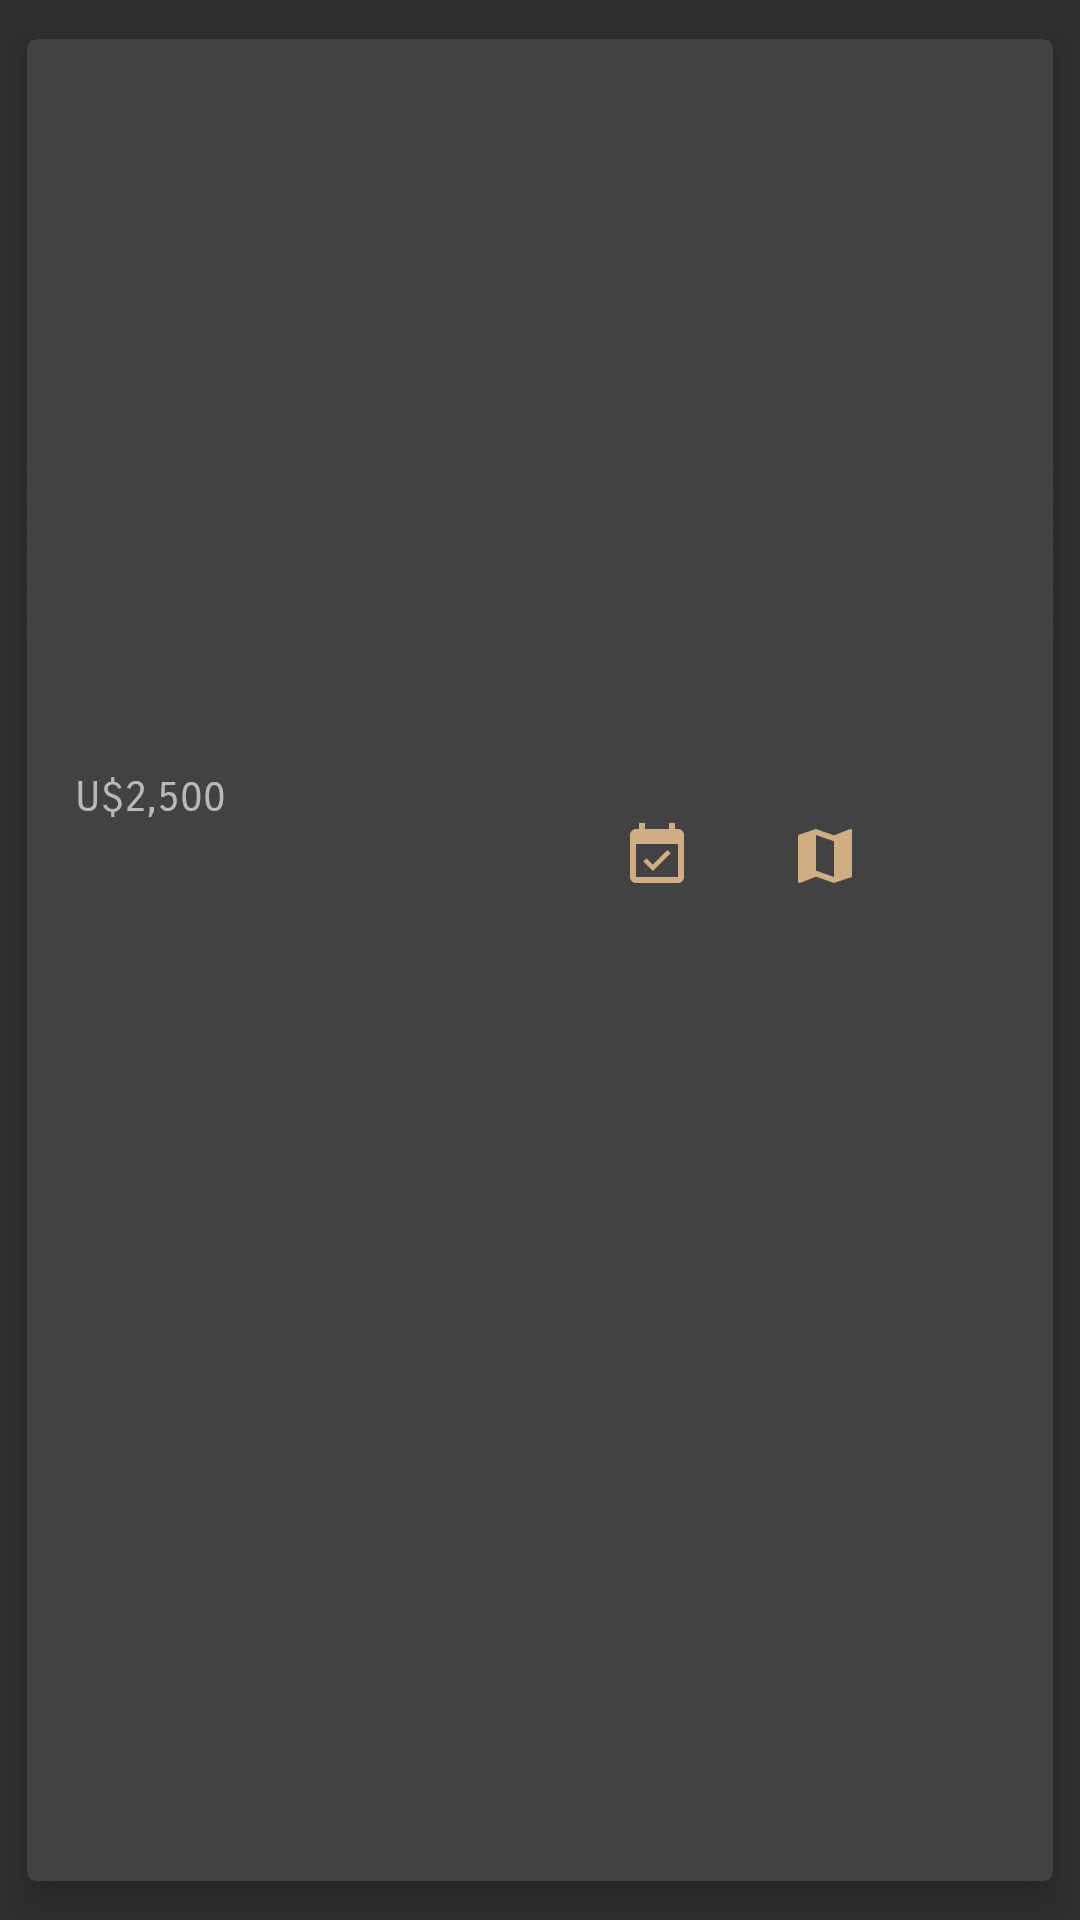

Locate icon controls on the screen. Image size 1080px x 1920px, boxes as (x1, y1, x2, y2).
event available: (630, 823, 684, 883)
map gold: (798, 829, 852, 883)
